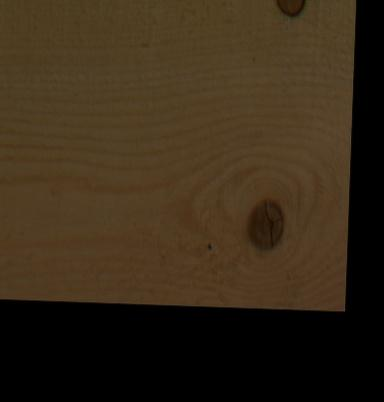sound_knot: (246, 197, 285, 249)
